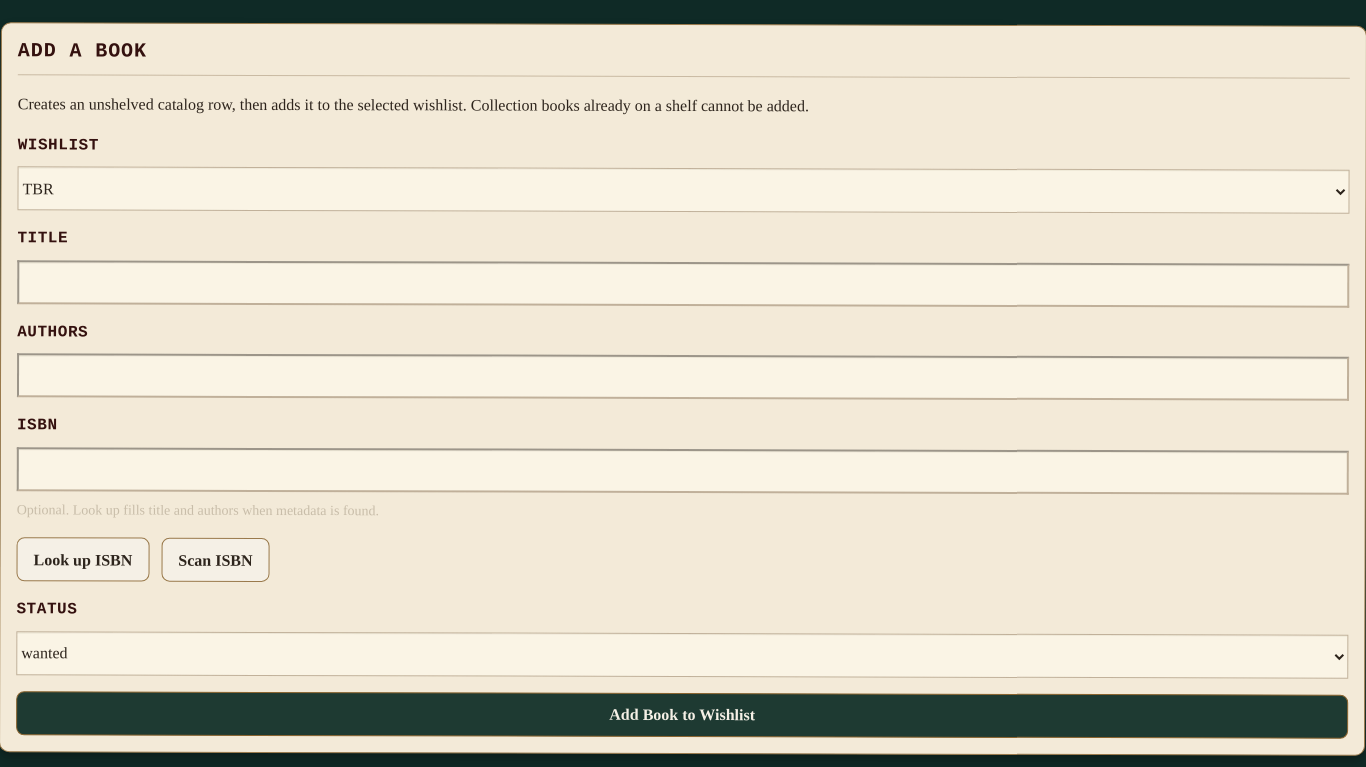
AddWishlistBookControl › refetches wishlists after a 404 add failure
The image size is (1366, 767).
In the field labelled "Title": (683, 284) left=17, top=260, right=1349, bottom=308, type "A Book"
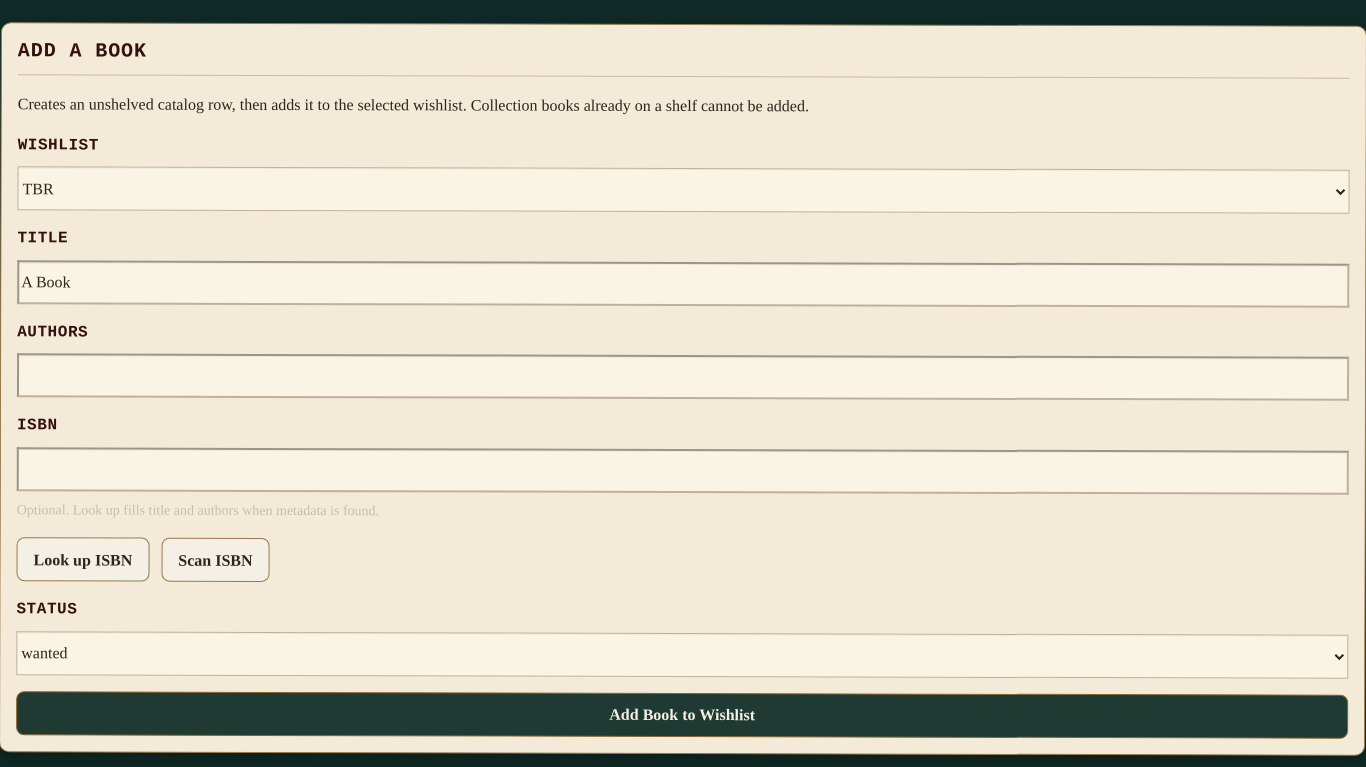
In the field labelled "Authors": (683, 377) left=17, top=354, right=1349, bottom=401, type "An Author"
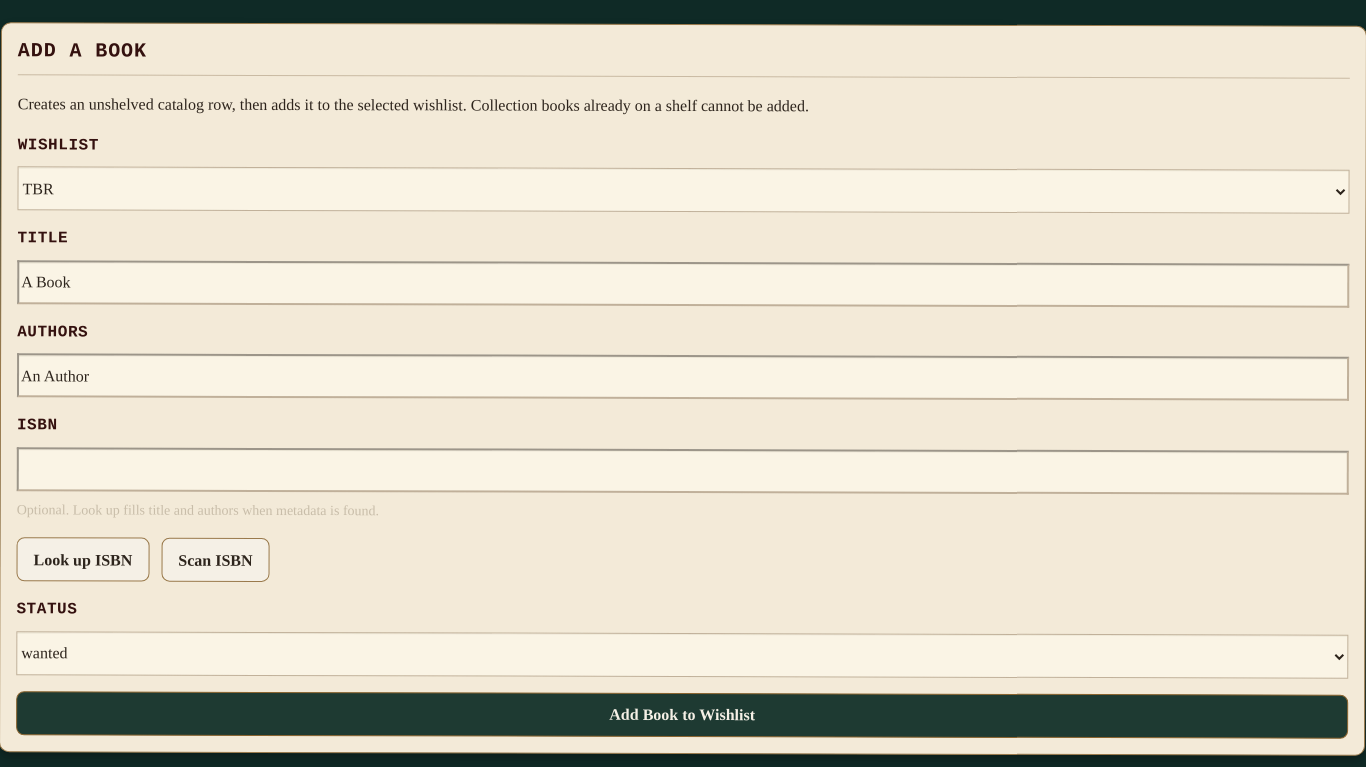
Click the button "Add Book to Wishlist": (682, 715) left=16, top=691, right=1348, bottom=739
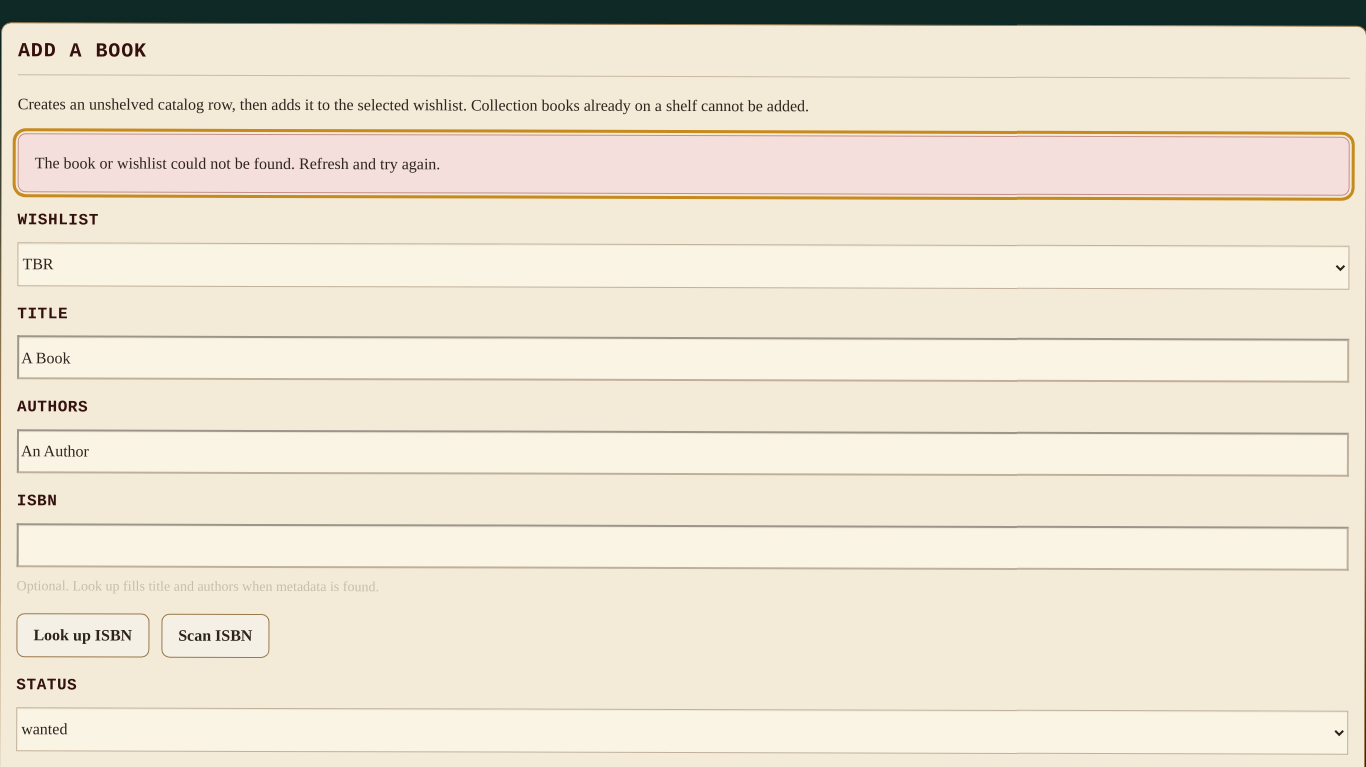
Expected: the message shows "could not be found", left=35, top=154, right=440, bottom=172
